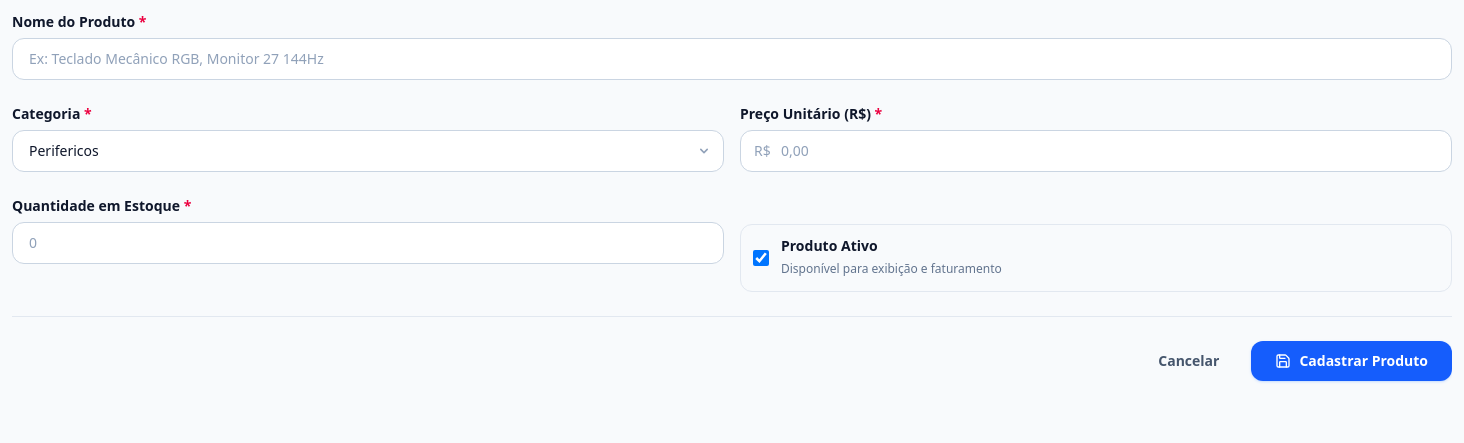
Test: ProductForm component › deve validar que o preço deve ser maior que zero
Type "0" into the field labelled "Preço Unitário (R$) *" at (1096, 151), box [740, 130, 1452, 172]
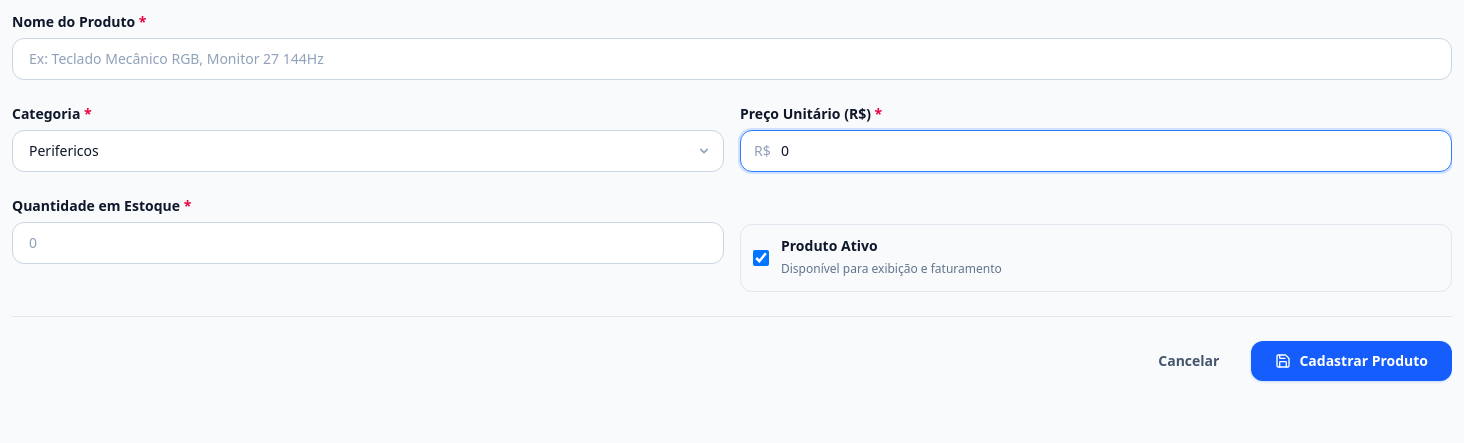
Click the button "Cadastrar Produto" at (1352, 360), box [1251, 340, 1452, 380]
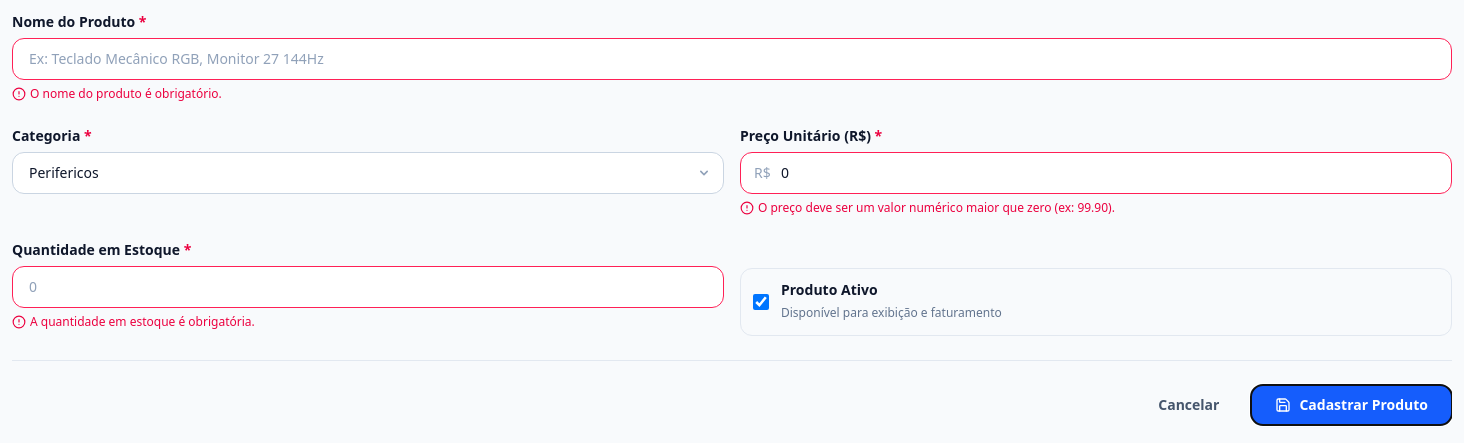
Expected: the text "O preço deve ser um valor numérico maior que zero" is shown, [758, 199, 1115, 216]
